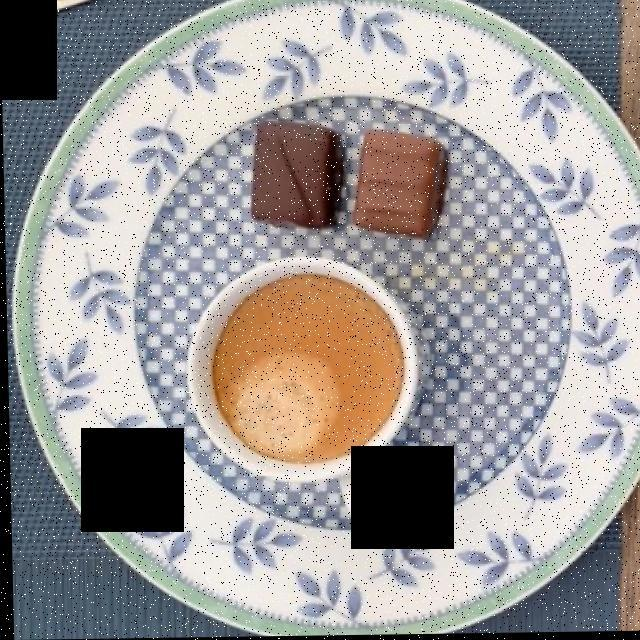chocolate: (351, 116, 446, 244), (245, 110, 338, 227)
coffee: (212, 280, 397, 461)
